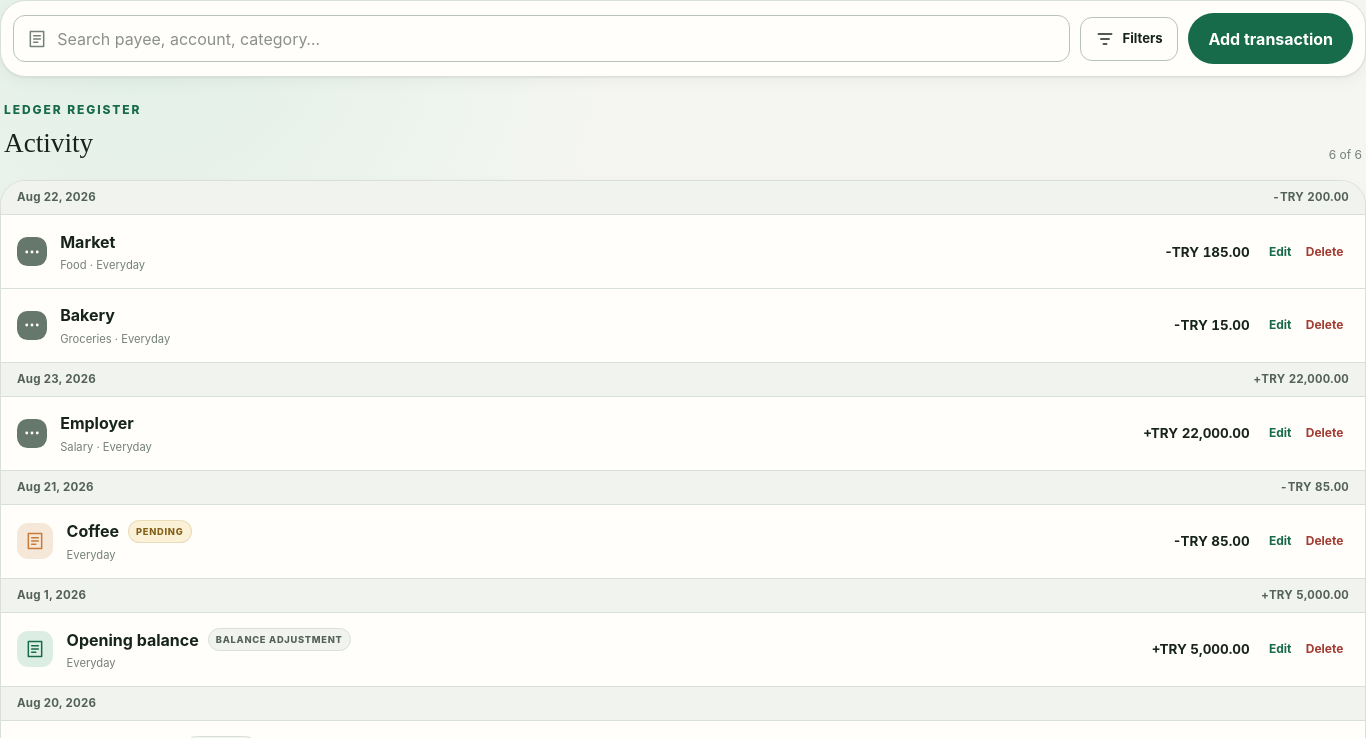
TransactionsPanel › sends a transaction the simple form cannot express to the detailed editor
The width and height of the screenshot is (1366, 738).
Click the button "Edit" in the row of "Balance adjustment": click(1280, 650) [1263,632,1297,668]
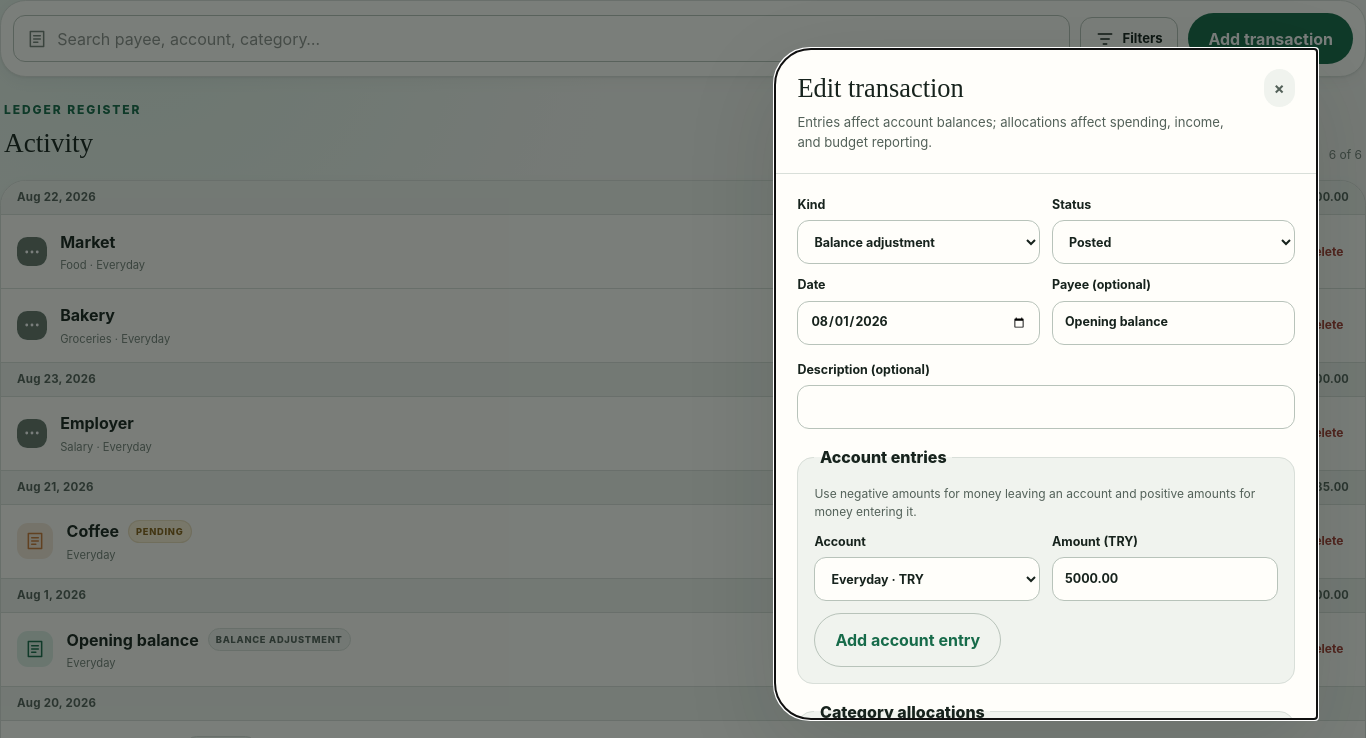
Check: the dropdown labelled "Kind" shows "Balance adjustment", box [797,220,1040,264]
Check: the field labelled "Amount (TRY)" holds "5000.00", box [1052,557,1278,601]
